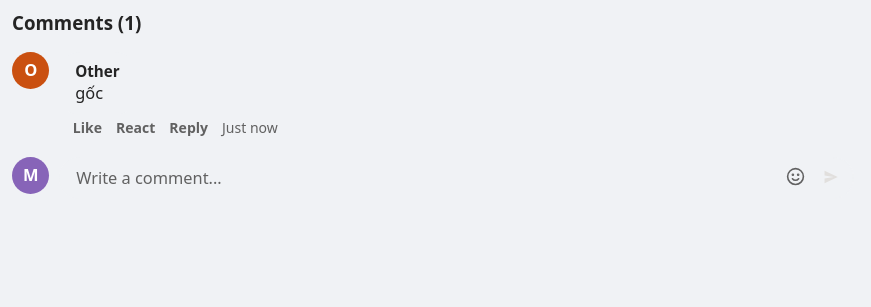
Scenario: TaskComments › should_replyToAComment_sendingItsId
Click the button "Reply".
click(189, 129)  # box top-left (169, 119), bottom-right (208, 138)
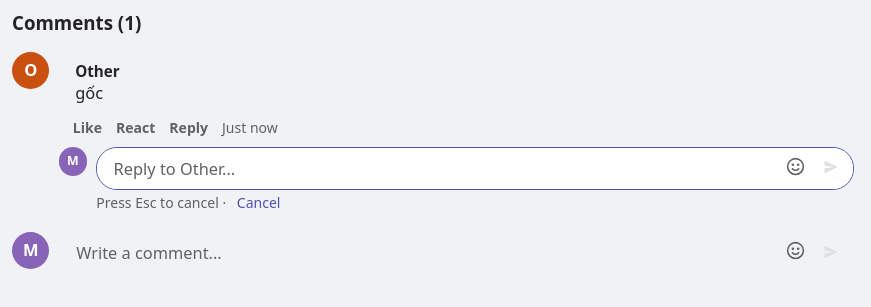
Type "dạ vâng" into the text box with test id "composer-input".
click(475, 169); type("dạ vâng")  # box top-left (96, 148), bottom-right (854, 190)
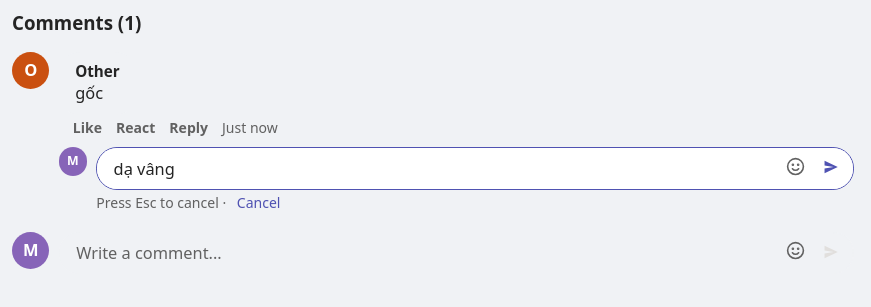
Press Enter in the text box with test id "composer-input", box top-left (96, 148), bottom-right (854, 190)
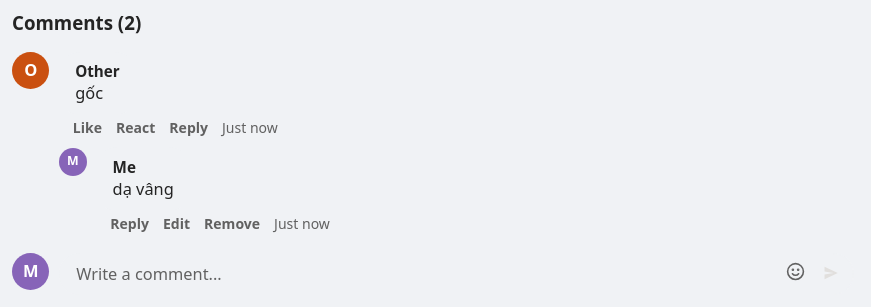
Now the element with class "replies" shows "dạ vâng", box top-left (113, 178), bottom-right (174, 200)
